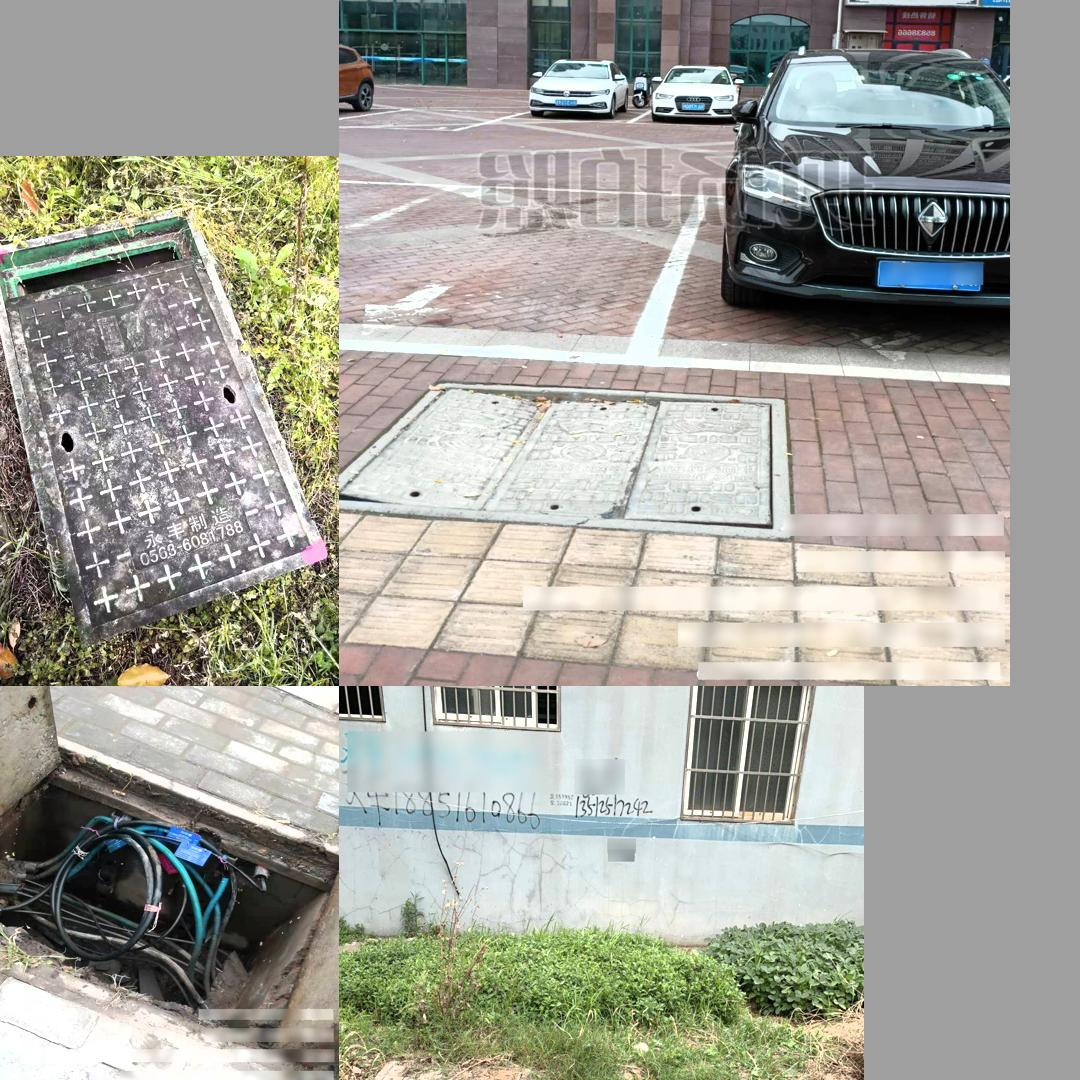uncovered: (0, 204, 325, 642), (0, 688, 333, 1053), (339, 383, 796, 534)
